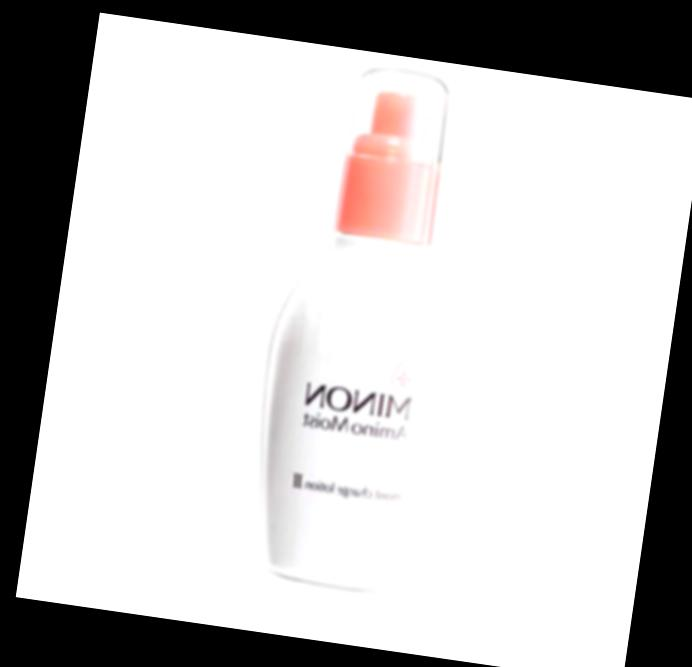cosmetic: (234, 51, 502, 604)
